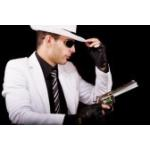Pistol: (86, 79, 140, 120)
